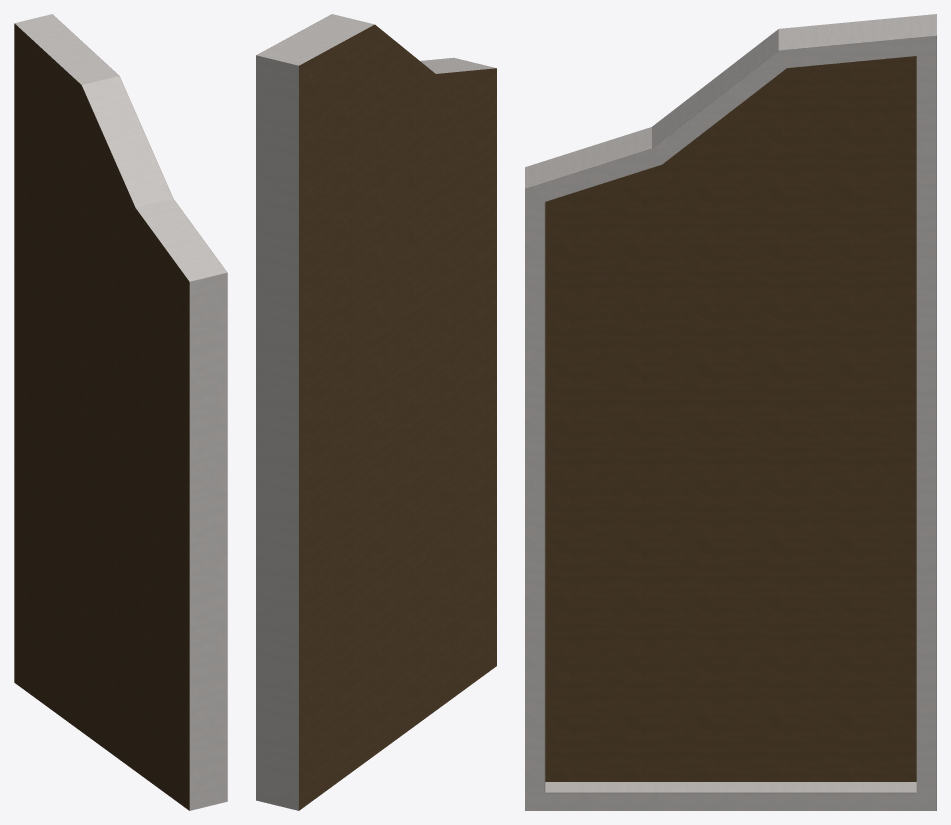
File: SwingDoorLeft.fbx
3 views of the same model, side by side, from view 1: azimuth 30°, elevation 25°; view 2: azimuth 150°, elevation 25°; view 3: azimuth 270°, elevation 25° (orthographic). The views are drawn at different scales.
Parts seen in each view (by area): view 1: SwingDoorLeft; view 2: SwingDoorLeft; view 3: SwingDoorLeft.
Boxes of the visible parts, <box> form: SwingDoorLeft: <box>14,14,227,810</box>; SwingDoorLeft: <box>256,14,496,810</box>; SwingDoorLeft: <box>525,14,936,810</box>.
Bounding box in the file's own units: 10.55 × 175 × 84.35.
